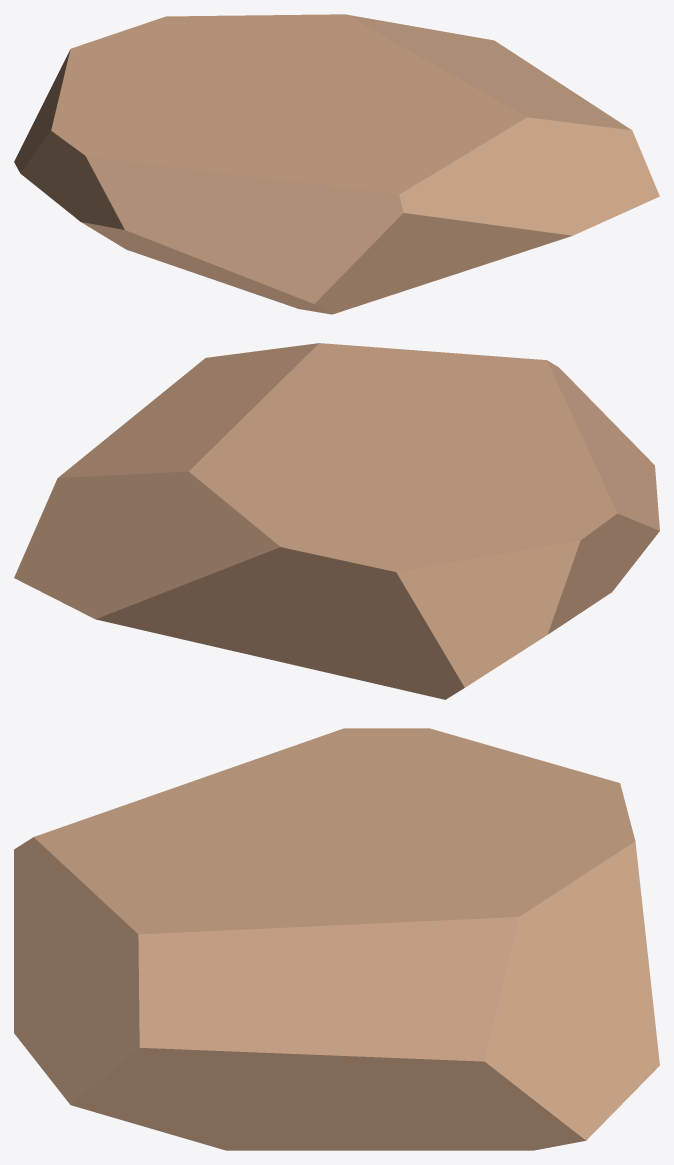
Rendered from Rock_Flat_m_06.fbx.
3 renders of one model, top to bottom at view 1: azimuth 30°, elevation 25°; view 2: azimuth 150°, elevation 25°; view 3: azimuth 270°, elevation 25°, orthographic. The views are drawn at different scales.
Visible parts, largest first — view 1: Rock_Flat_m_06; view 2: Rock_Flat_m_06; view 3: Rock_Flat_m_06.
Part boxes in pixels (x1,y1,x2,y2): Rock_Flat_m_06: (14,14,659,314); Rock_Flat_m_06: (14,343,659,699); Rock_Flat_m_06: (14,728,659,1150).
Size of the model in its own units: 112 by 27.85 by 107.
